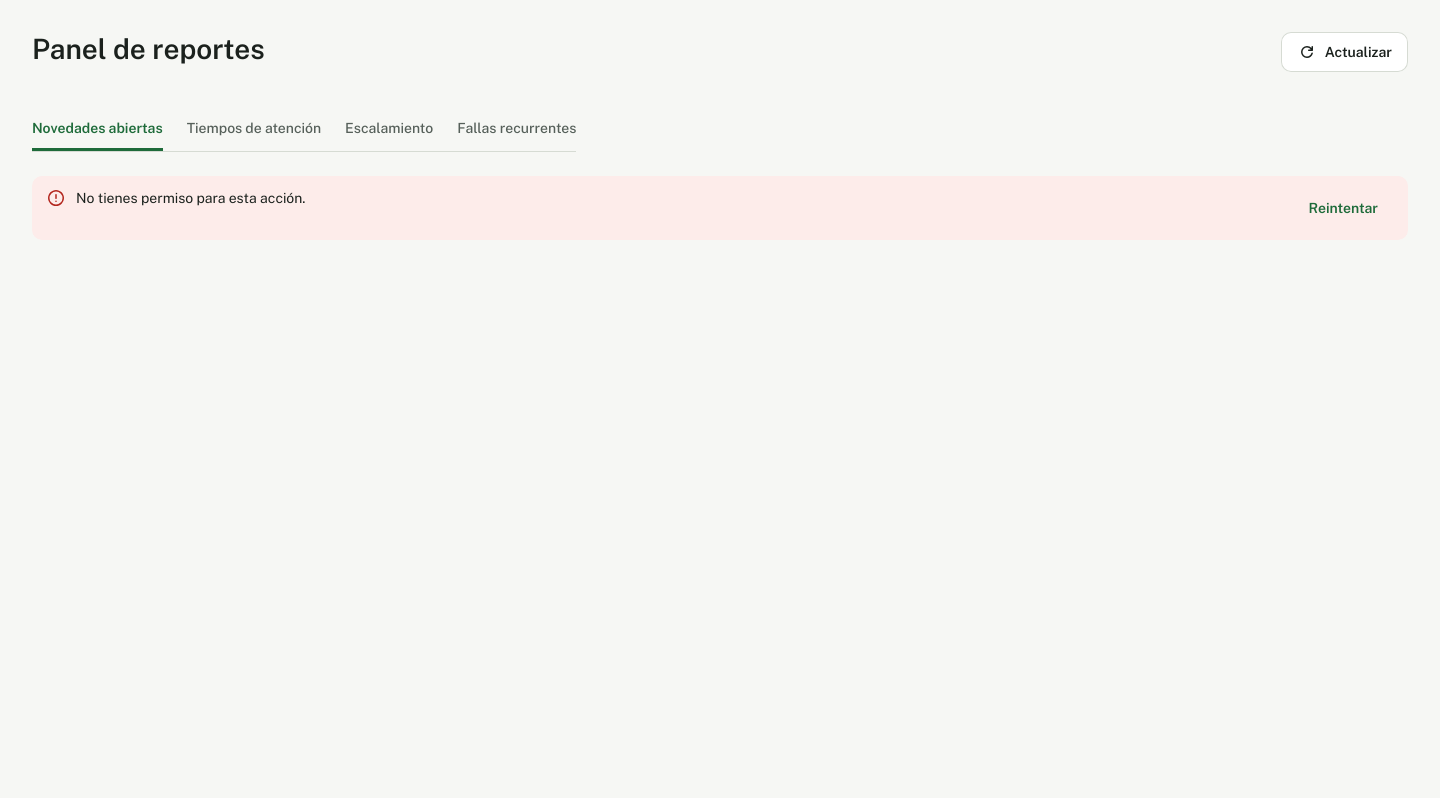
Test: Panel de reportes (RF-26 a RF-29) › RF-26 / CU-26 1a: si el servidor dice que no, lo dice y deja reintentar
The image size is (1440, 798).
Check: the text "No tienes permiso para esta acción." is shown, box [76,190,306,206]
Click the button "Reintentar": coordinates (1343, 208) [1292,188,1394,228]
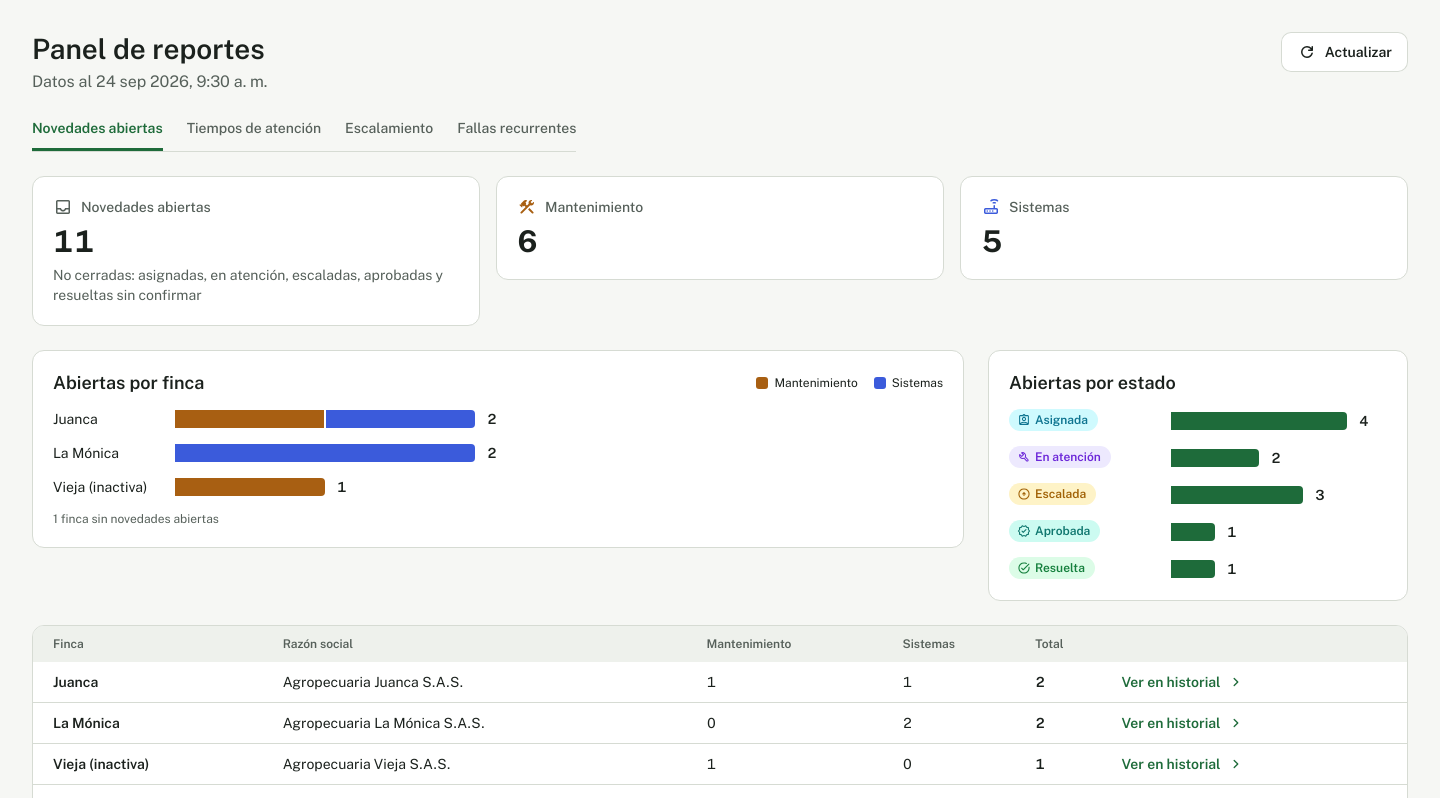
Check: the text "Datos al 24 sep 2026, 9:30 a. m." is shown, box [32,72,268,91]
